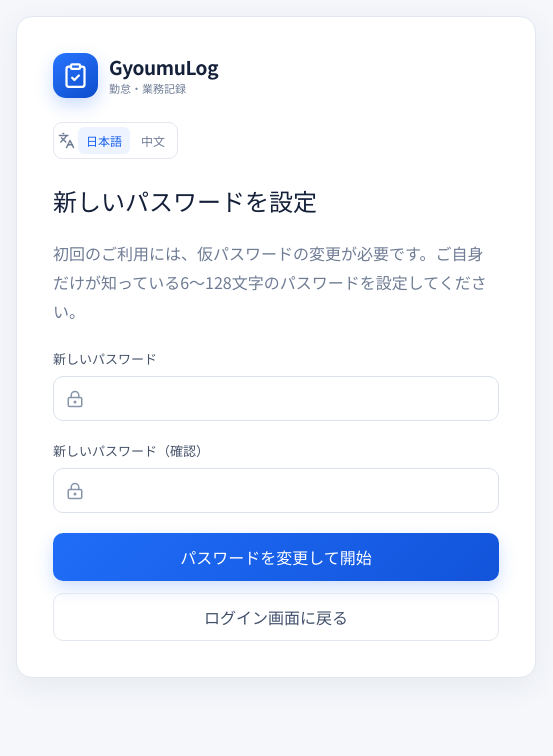
initial password page in ja › requires matching passwords before contacting the server
The image size is (553, 756).
Type "first-password" into the password field labelled "新しいパスワード" at (276, 399), box [53,376,499,421]
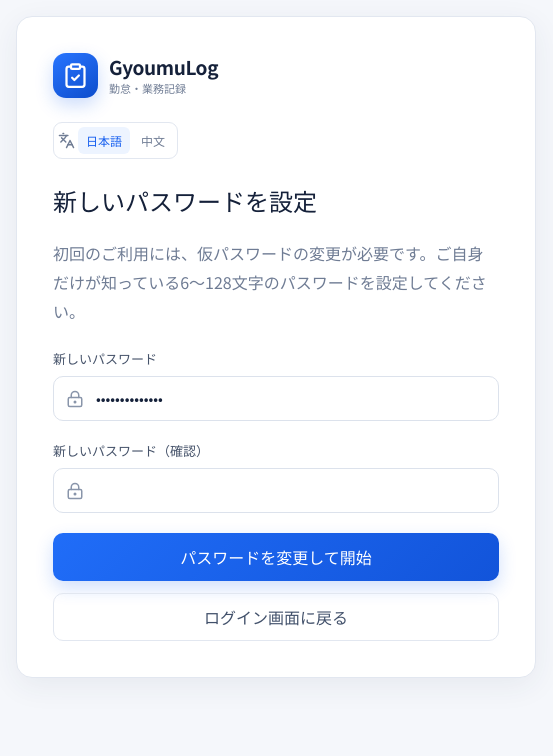
Type "other-password" into the password field labelled "新しいパスワード（確認）" at (276, 491), box [53,468,499,513]
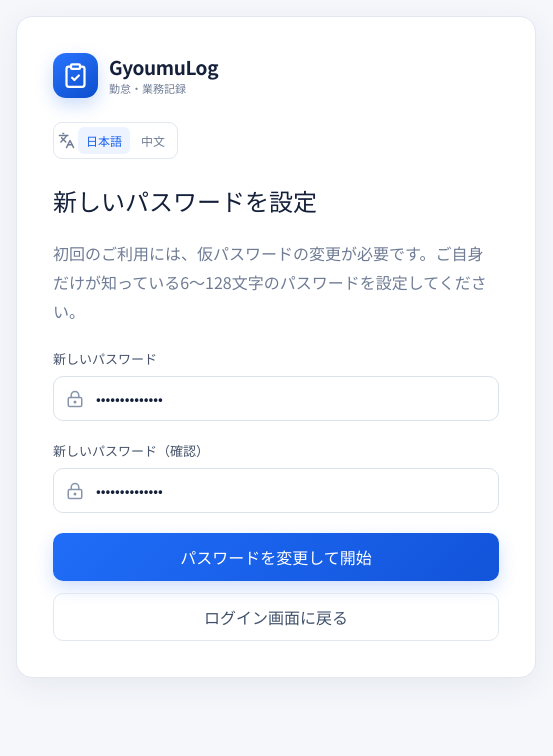
Submit the form labelled "新しいパスワード", box [53,349,499,641]
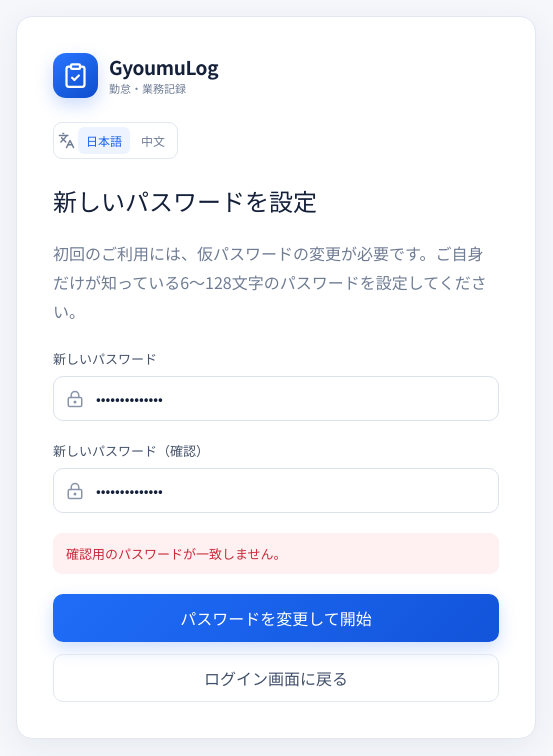
expect the message shows "一致しません": met, box [66,544,287,563]
